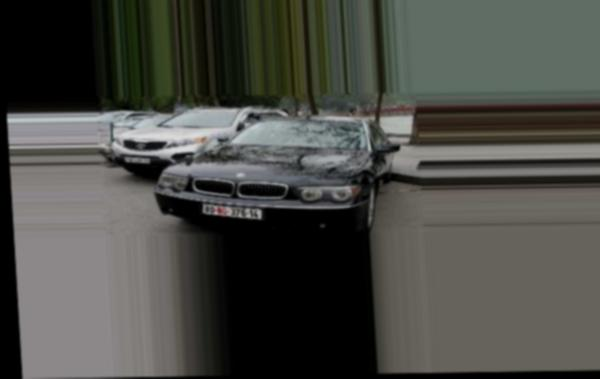License_Plate: (199, 200, 265, 223), (122, 154, 152, 165)
